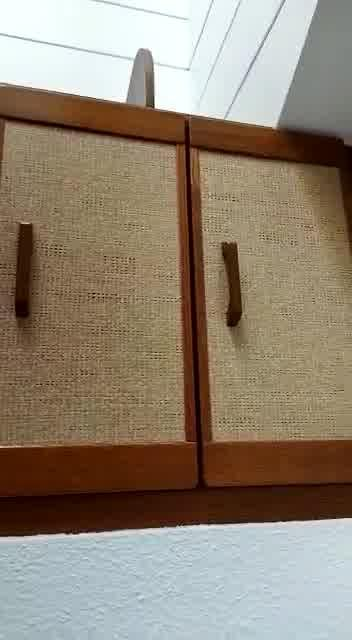cabinet_door: (0, 98, 187, 493), (192, 130, 352, 487)
handle: (9, 217, 42, 332), (213, 237, 251, 335)
